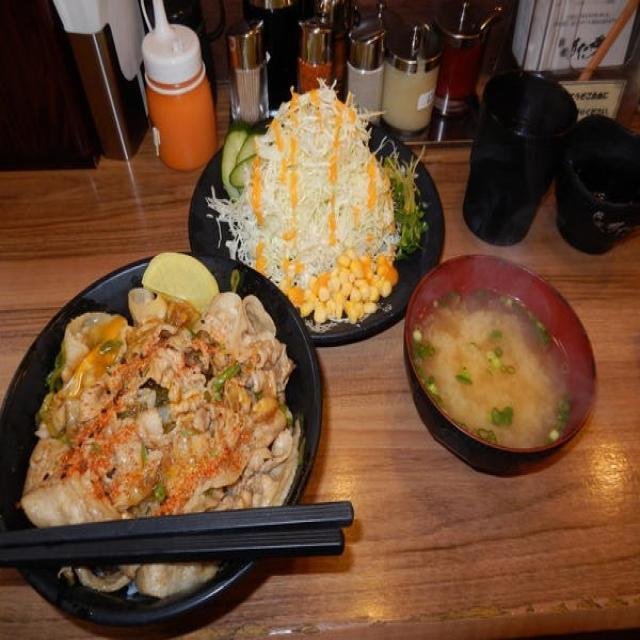Green Salad: (218, 102, 416, 296)
